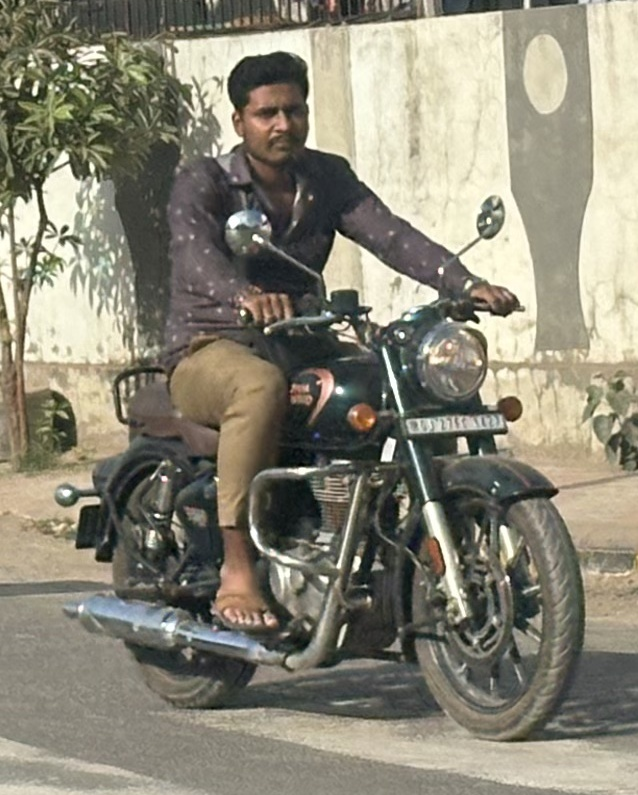BikeWithRider: (47, 48, 595, 753)
NoHelmet: (221, 49, 317, 169)
